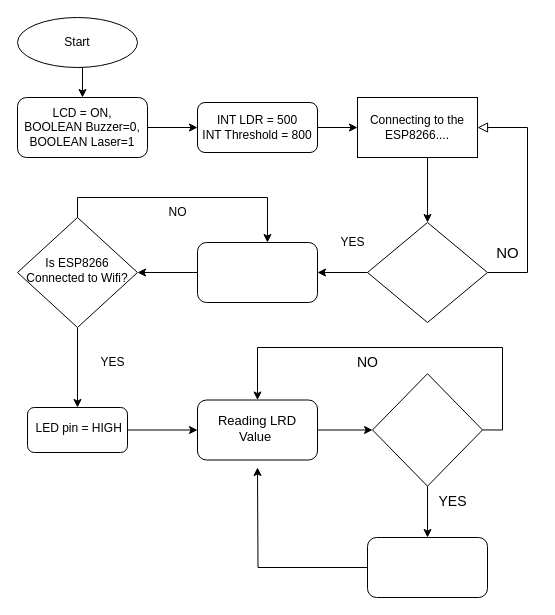
The diagram is 555 pixels wide and 615 high, and some of its shapes have lost their labels. The centre of each missing label's shape, as x and y in pixels:
"Buzzer pin = HIGH" belongs at pixel 427 567.
"Connecting ESP8266 to the Wifi" belongs at pixel 257 272.
"IF(LDR>=800)" belongs at pixel 427 429.
"Is Connected to ESP8266?" belongs at pixel 427 272.
